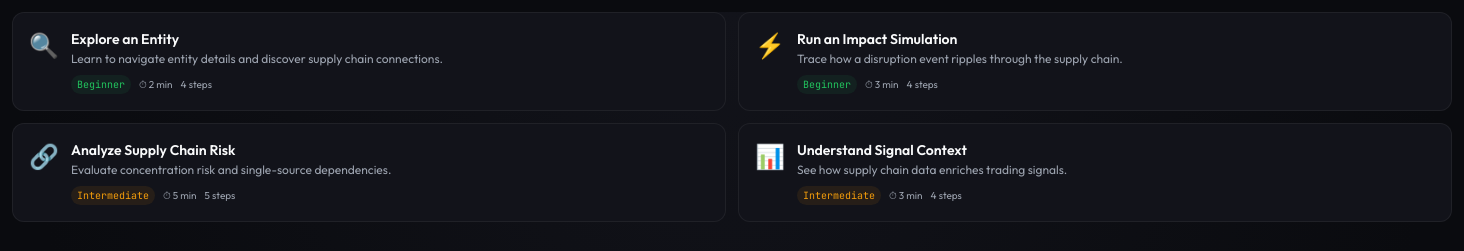
Test: GuidedScenario › opens a walkthrough when clicked
Click the heading "Explore an Entity": (125, 39) top-left (71, 30), bottom-right (179, 48)
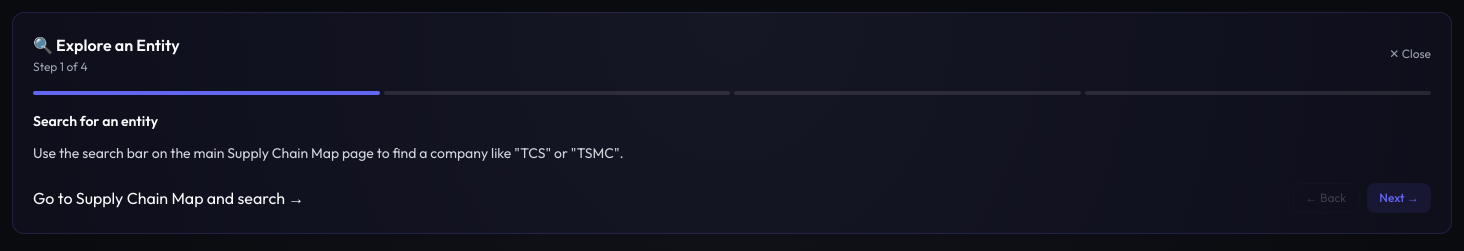
Expected: the text "Step 1 of 4" is shown, top-left (33, 59), bottom-right (88, 74)
Expected: the heading "Search for an entity" is shown, top-left (33, 112), bottom-right (158, 130)
